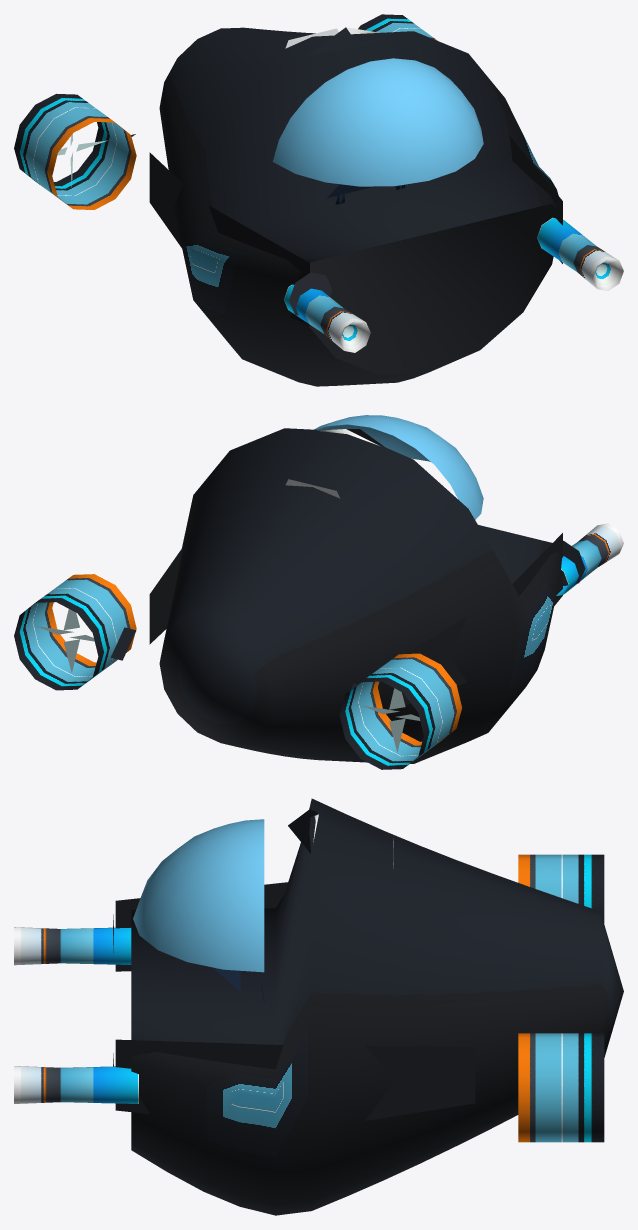
Rendered from player_tadpole.obj.
3 renders of one model, top to bottom at view 1: azimuth 30°, elevation 25°; view 2: azimuth 150°, elevation 25°; view 3: azimuth 270°, elevation 25°, orthographic. The views are drawn at different scales.
Visible parts, largest first — view 1: Sub_Hull, Sub_Canopy, Sub_Thrusters, Canon_R, Canon_L, Sub_Cockpit; view 2: Sub_Hull, Sub_Thrusters, Sub_Canopy, Canon_L; view 3: Sub_Hull, Sub_Canopy, Sub_Thrusters, Canon_R, Canon_L.
Boxes of the visible parts, <box> form: Sub_Hull: <box>149,27,562,386</box>; Sub_Canopy: <box>273,27,483,186</box>; Sub_Thrusters: <box>14,14,437,209</box>; Canon_R: <box>537,217,623,290</box>; Canon_L: <box>284,284,370,352</box>; Sub_Cockpit: <box>285,28,405,204</box>; Sub_Hull: <box>149,428,585,763</box>; Sub_Thrusters: <box>14,574,461,769</box>; Sub_Canopy: <box>314,415,483,519</box>; Canon_L: <box>556,523,623,595</box>; Sub_Hull: <box>113,798,623,1215</box>; Sub_Canopy: <box>133,808,318,972</box>; Sub_Thrusters: <box>518,854,604,1142</box>; Canon_R: <box>14,1066,138,1103</box>; Canon_L: <box>14,927,131,965</box>.
Size of the model in its own units: 3.4 by 2.68 by 3.9.
Materials: 5 (5 with a texture image).
